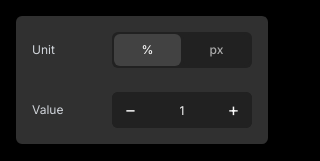
Test: NumberInput Component › Percentage Mode Validation › should show tooltip when hovering disabled decrement button
This screenshot has width=320, height=161.
Set value to 0
Replace the text in the field with "0": (182, 110) top-left (148, 92), bottom-right (216, 128)
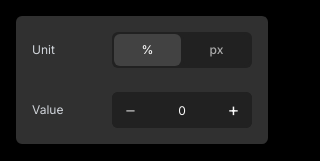
Hover over the button "−": (130, 110) top-left (112, 92), bottom-right (148, 128)
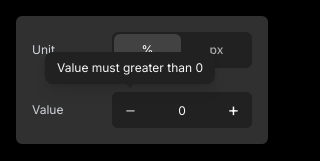
Now the text "Value must greater than 0" is shown, box top-left (45, 52), bottom-right (215, 84)
